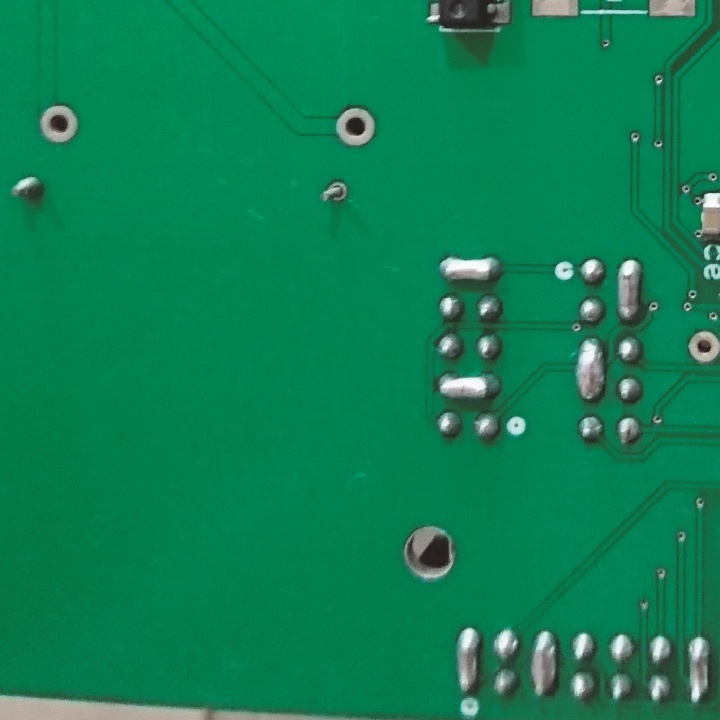F: (333, 105, 379, 154), (36, 102, 78, 149), (685, 329, 720, 364), (318, 177, 351, 209)
P: (679, 631, 712, 710), (436, 252, 506, 289), (433, 369, 503, 406), (573, 336, 607, 412), (453, 625, 487, 701), (528, 629, 561, 703), (615, 256, 646, 328)
